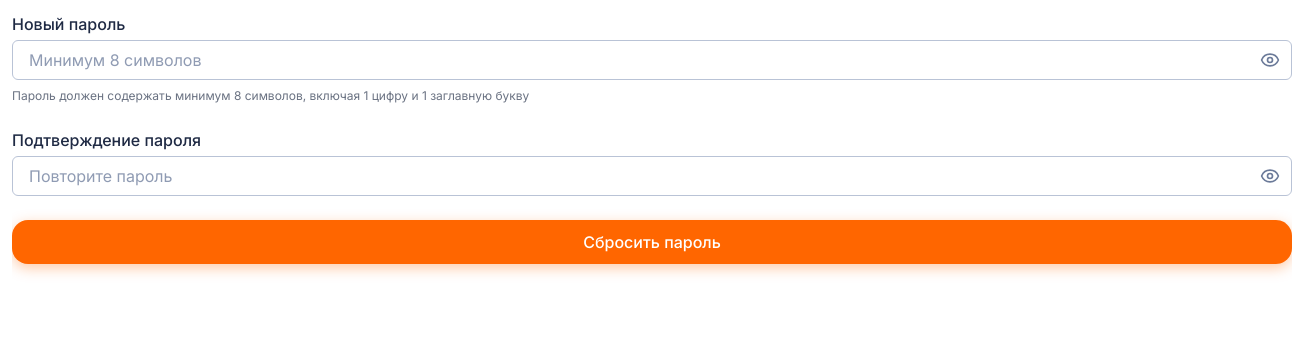
Test: PasswordResetConfirmForm › Client-side Validation › should show error for password without digit
Type "NoDigitsHere" into the password field labelled "Новый пароль".
click(652, 60); type("NoDigitsHere")  # box top-left (12, 40), bottom-right (1292, 80)
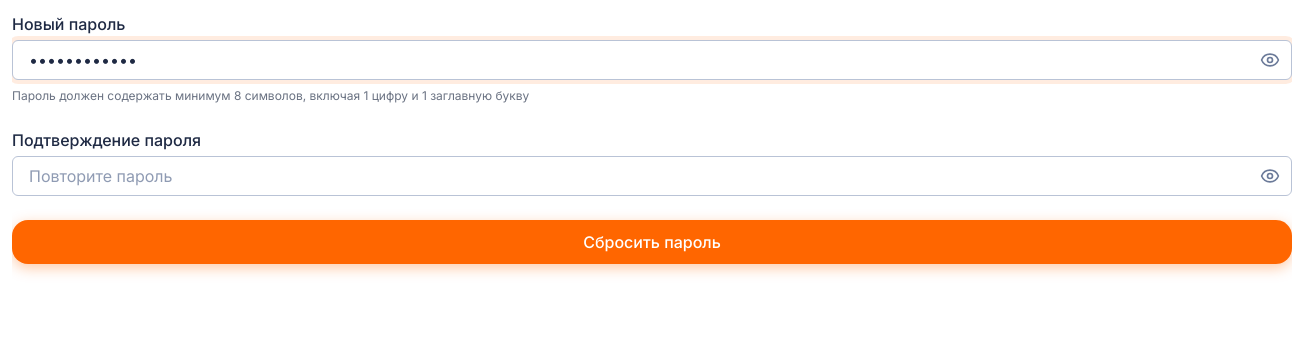
Type "NoDigitsHere" into the password field labelled "Подтверждение пароля".
click(652, 176); type("NoDigitsHere")  # box top-left (12, 156), bottom-right (1292, 196)
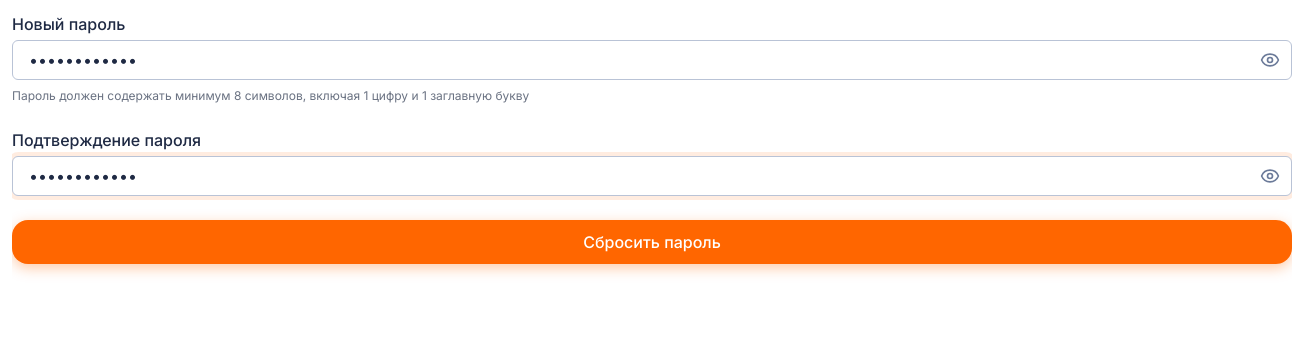
Click the button "Сбросить пароль".
click(652, 242)  # box top-left (12, 220), bottom-right (1292, 264)
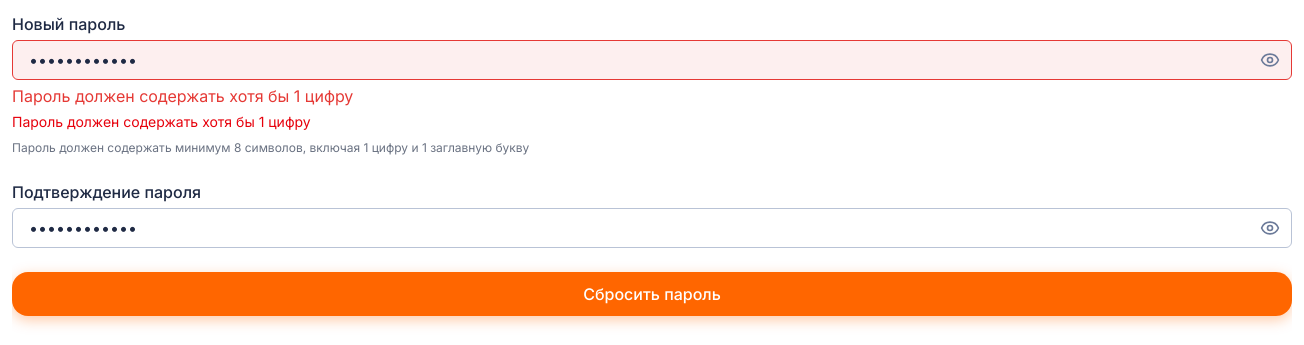
expect the message "Пароль должен содержать хотя бы 1 цифру" is shown: met, box top-left (12, 113), bottom-right (311, 130)
